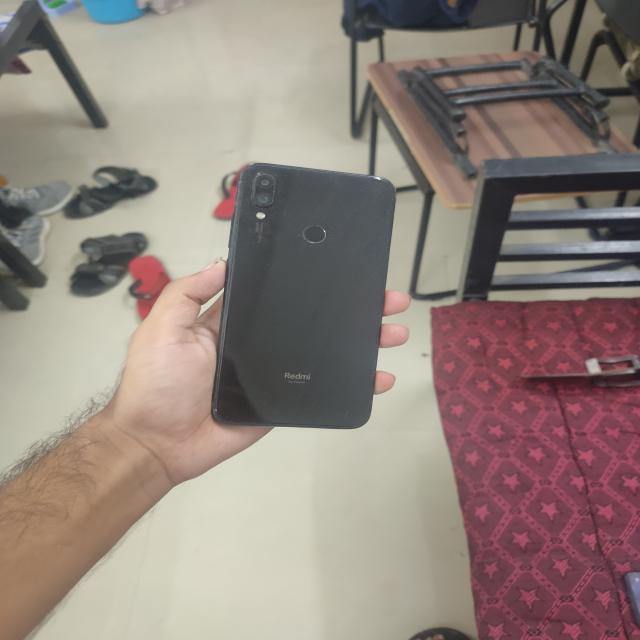Phone: (209, 162, 401, 432)
